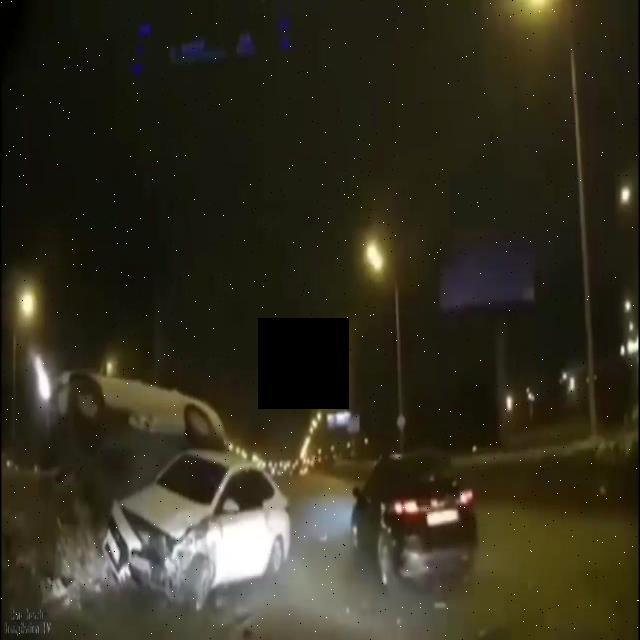severe: (42, 366, 294, 614)
